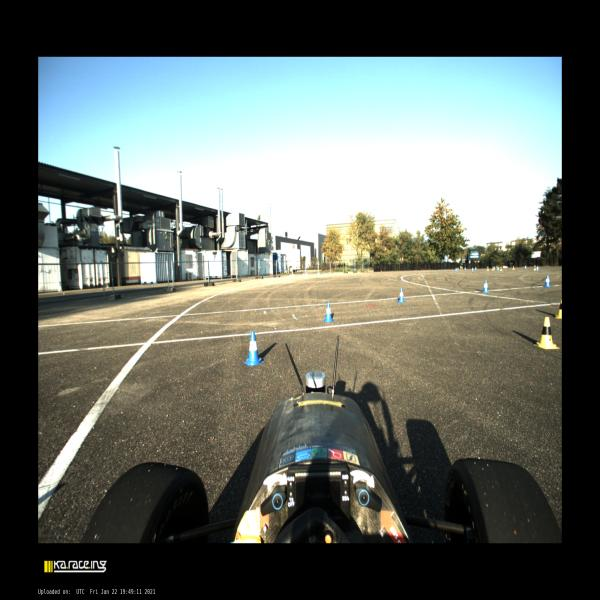blue_cone: (244, 331, 264, 367), (323, 302, 334, 322), (398, 288, 406, 303), (482, 280, 489, 292), (544, 275, 551, 287), (536, 266, 539, 271), (497, 267, 500, 271), (455, 268, 457, 272), (457, 267, 459, 271), (475, 266, 477, 270), (524, 265, 526, 269), (472, 266, 473, 272), (494, 266, 495, 270), (465, 267, 466, 270)
yellow_cone: (534, 317, 559, 349), (555, 299, 562, 318), (512, 266, 515, 270), (534, 265, 536, 271), (487, 266, 489, 271), (500, 266, 502, 271), (492, 266, 494, 270)
